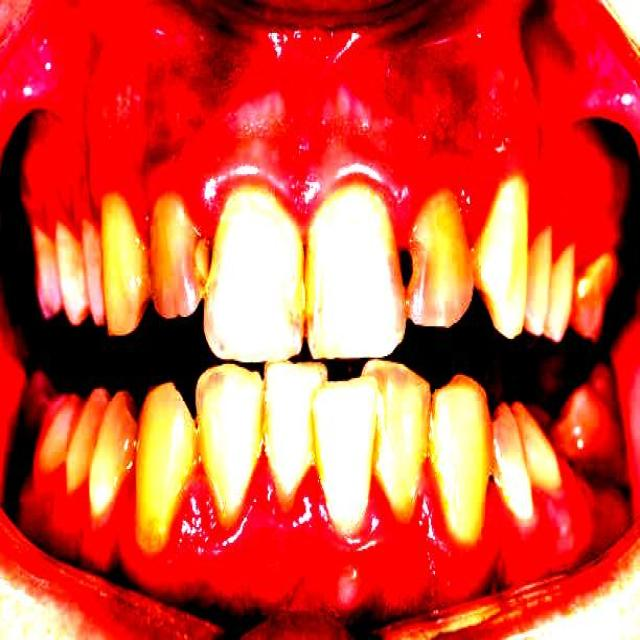caries: (391, 229, 427, 300), (194, 228, 224, 292)
